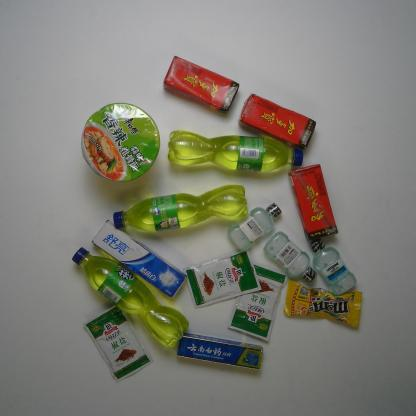Chocolate: (282, 278, 363, 328)
Drink: (70, 246, 190, 349), (112, 184, 249, 232), (167, 130, 304, 173), (162, 55, 240, 115), (237, 92, 317, 150), (288, 163, 339, 242)
Instant Noodles: (81, 102, 161, 182)
Personal Hygiene: (91, 218, 187, 300), (176, 332, 263, 370), (262, 230, 318, 285), (309, 238, 358, 297), (226, 201, 282, 252)
Seasoner: (83, 304, 154, 382), (228, 262, 288, 342), (183, 249, 262, 309)
